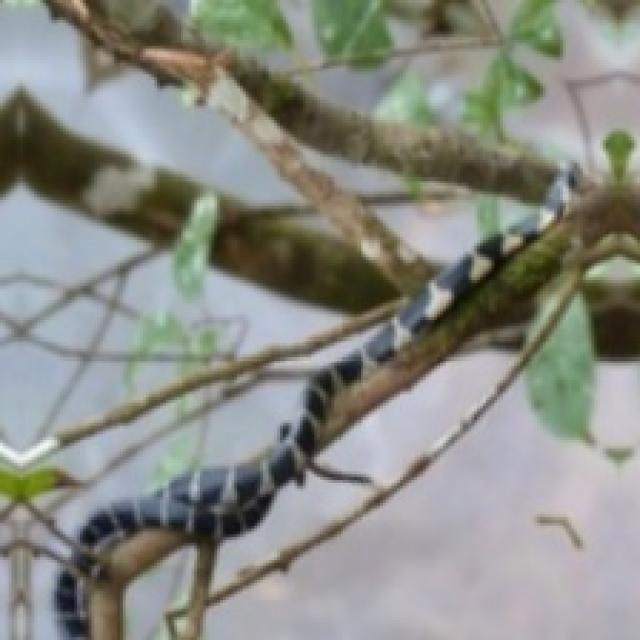king cobra: (80, 189, 637, 637)
